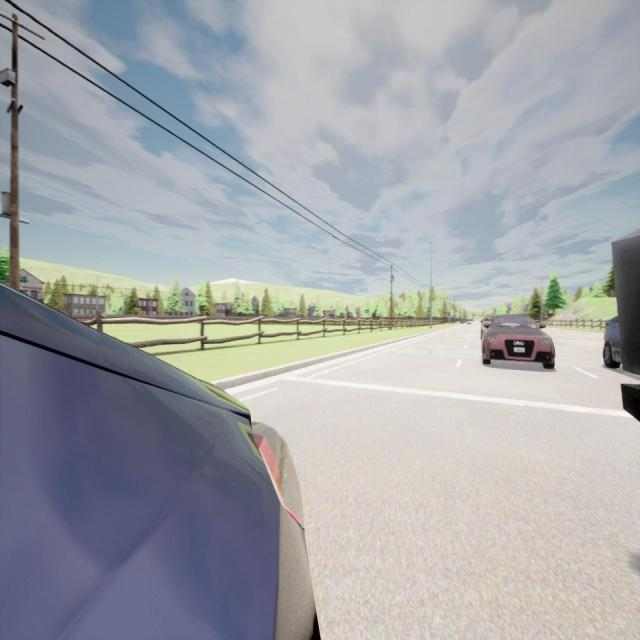Vehicle: (0, 285, 318, 638), (613, 228, 640, 422), (482, 314, 555, 368), (602, 315, 623, 369), (466, 318, 472, 326)
